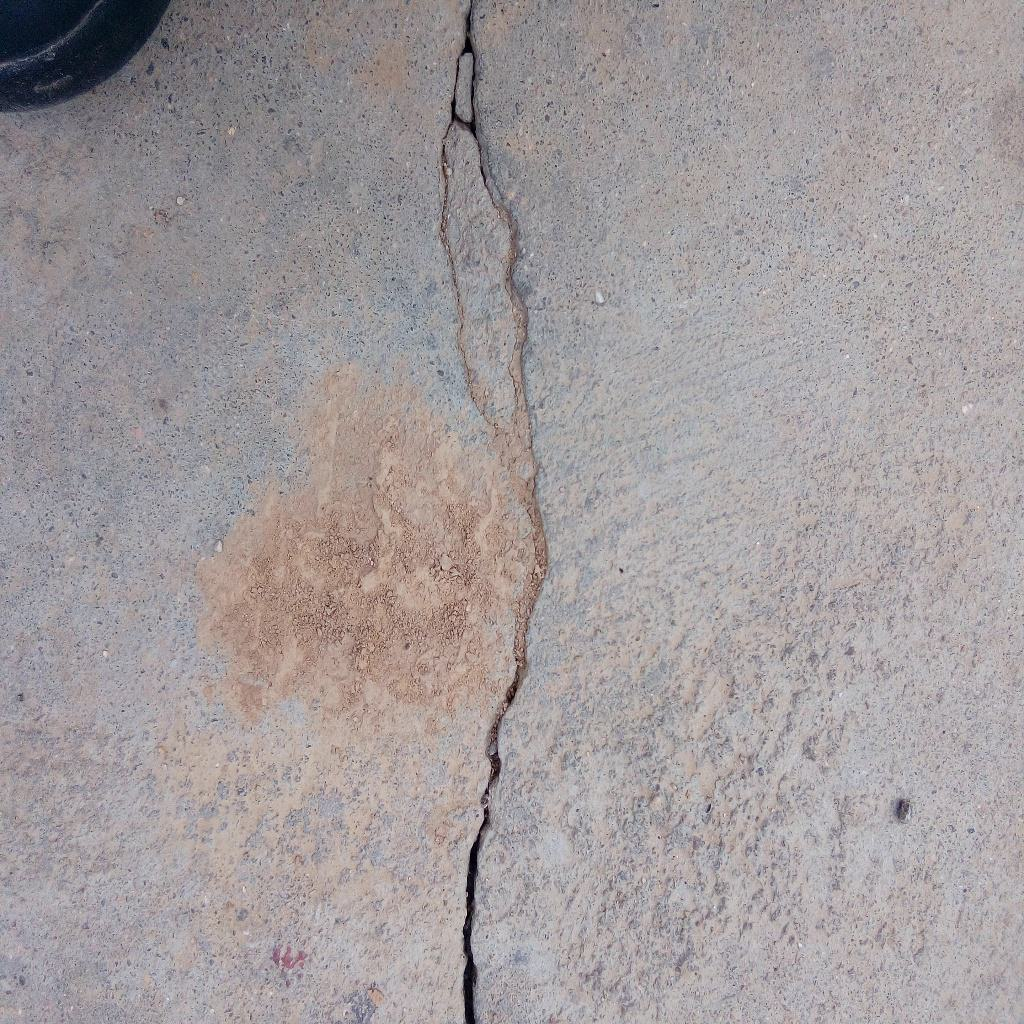Crack: (437, 1, 552, 1024)
